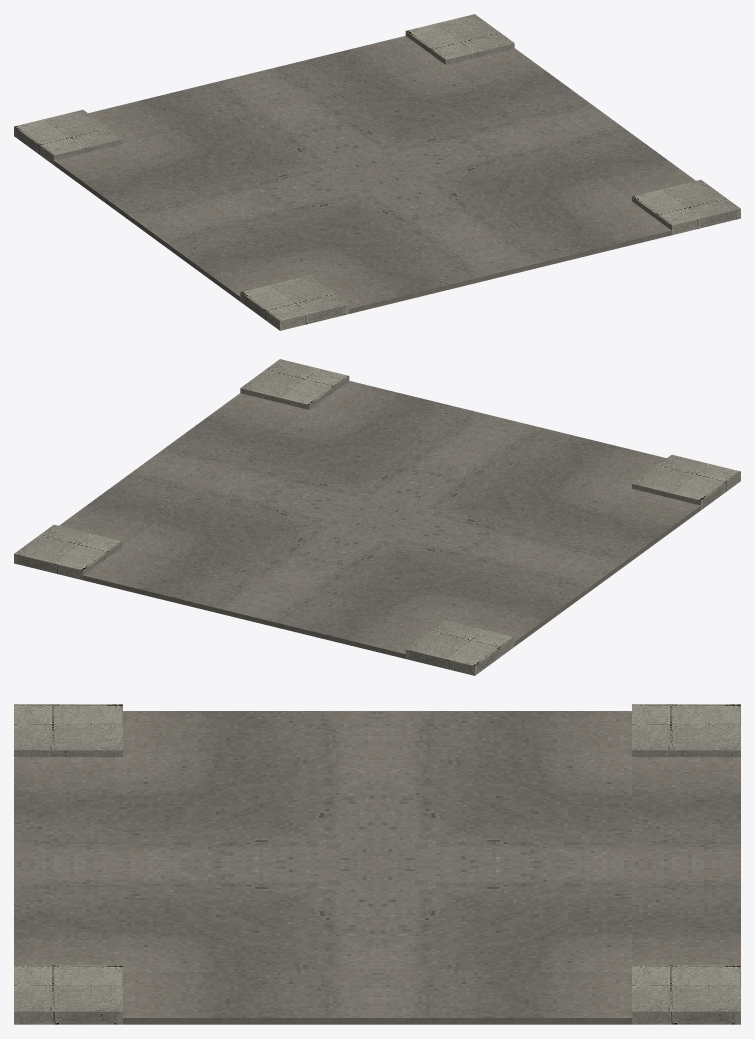
File: road_3_junction.glb
3 renders of one model, top to bottom at view 1: azimuth 30°, elevation 25°; view 2: azimuth 150°, elevation 25°; view 3: azimuth 270°, elevation 25°, orthographic. The views are drawn at different scales.
Parts seen in each view (by area): view 1: road_3_junction; view 2: road_3_junction; view 3: road_3_junction.
Boxes of the visible parts, x1,y1,x2,y2 form: road_3_junction: (14,14,740,330); road_3_junction: (14,359,740,675); road_3_junction: (14,704,740,1024).
Bounding box in the file's own units: 16 × 0.32 × 16.
Materials: 2 (2 with a texture image).
